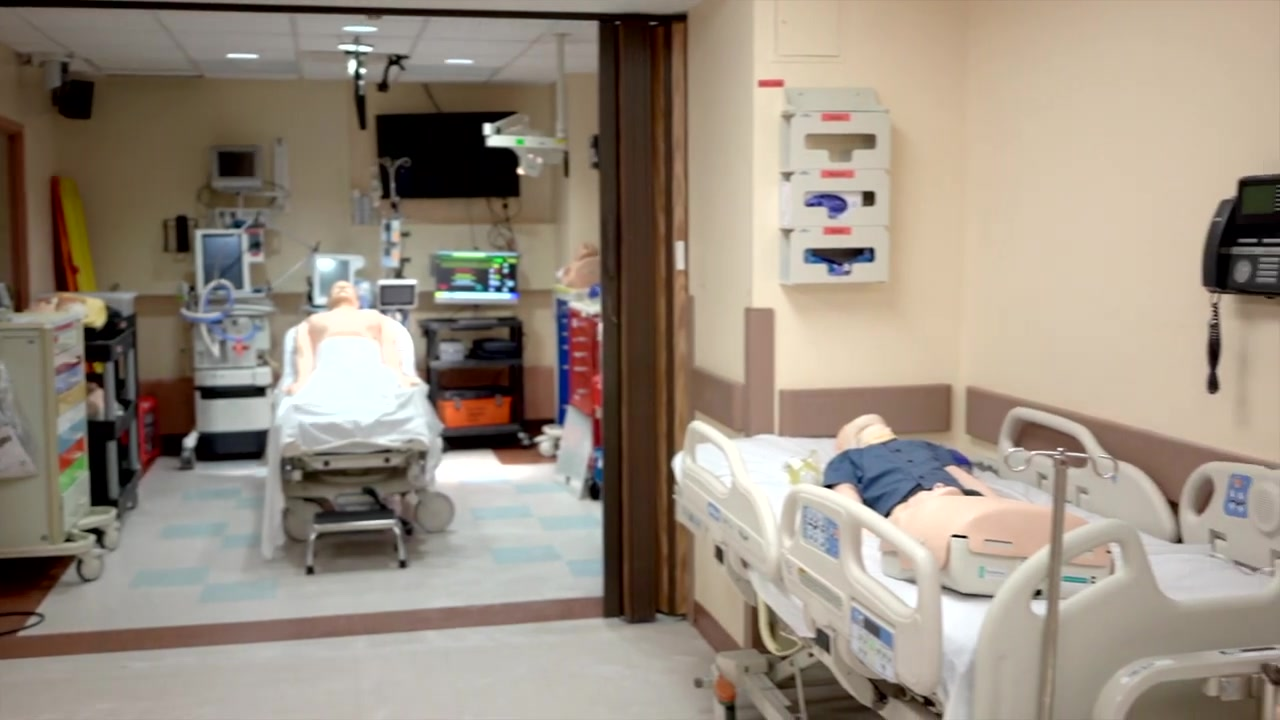TV: (374, 109, 519, 199)
bedrail: (778, 484, 943, 695), (998, 406, 1178, 544), (673, 421, 776, 575), (1177, 460, 1280, 570)
bedside_monitor: (434, 251, 519, 305), (208, 144, 262, 189), (315, 256, 352, 303), (379, 281, 415, 307)
breathing_tube: (178, 275, 257, 362)
foot_board: (963, 520, 1280, 720)
handle: (67, 450, 85, 459), (68, 431, 86, 440), (573, 366, 590, 373), (575, 387, 592, 394), (573, 352, 590, 359), (572, 321, 589, 328), (572, 337, 589, 344), (63, 358, 81, 364), (77, 496, 89, 504)
hospital_bed: (670, 406, 1280, 720), (261, 281, 454, 540)
iv_pole: (1006, 446, 1119, 720), (373, 155, 411, 219)
medical_drawer: (1, 310, 120, 580), (563, 297, 599, 442)
patient: (290, 282, 415, 444)
telephone: (1196, 172, 1280, 397)
ventilator: (181, 228, 283, 472)
